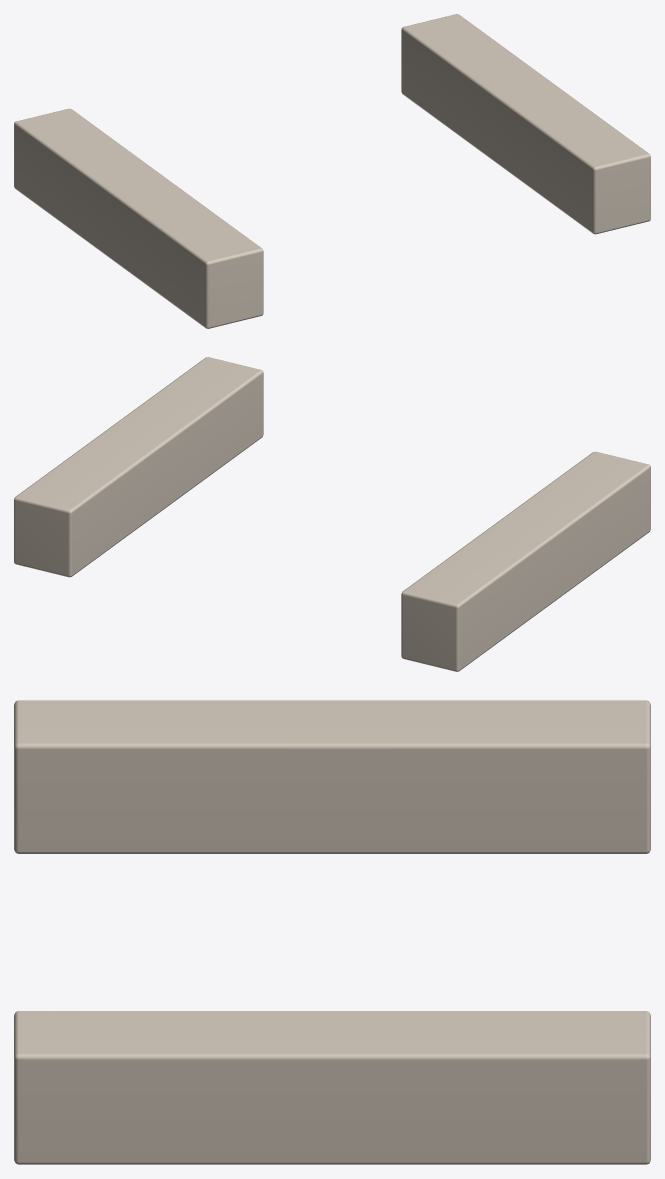
The model's file is exhaust_headers.glb.
3 renders of one model, top to bottom at view 1: azimuth 30°, elevation 25°; view 2: azimuth 150°, elevation 25°; view 3: azimuth 270°, elevation 25°, orthographic. The views are drawn at different scales.
Visible parts, largest first — view 1: GEO_Exhaust_Headers; view 2: GEO_Exhaust_Headers; view 3: GEO_Exhaust_Headers.
Boxes of the visible parts, left/top/right/bottom form: GEO_Exhaust_Headers: left=14, top=14, right=650, bottom=328; GEO_Exhaust_Headers: left=14, top=357, right=650, bottom=671; GEO_Exhaust_Headers: left=14, top=700, right=650, bottom=1164.
Bounding box in the file's own units: 0.69 × 0.1 × 0.52.
